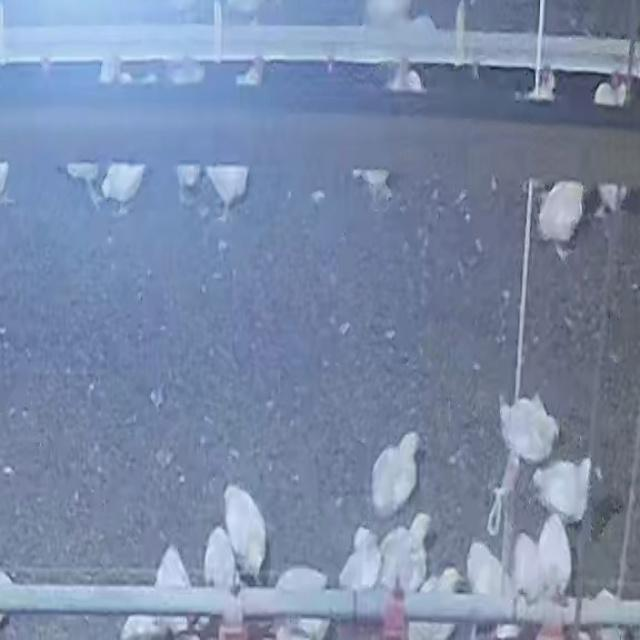chicken: (498, 393, 560, 465), (370, 431, 422, 516), (223, 483, 267, 579), (272, 566, 329, 640), (530, 455, 592, 523), (150, 547, 195, 640), (383, 512, 428, 602), (467, 540, 516, 622), (536, 179, 586, 246), (344, 524, 384, 601), (537, 514, 572, 595), (506, 539, 546, 606), (203, 164, 250, 220), (98, 162, 146, 215), (64, 161, 106, 210), (353, 168, 393, 210), (176, 163, 204, 206)
